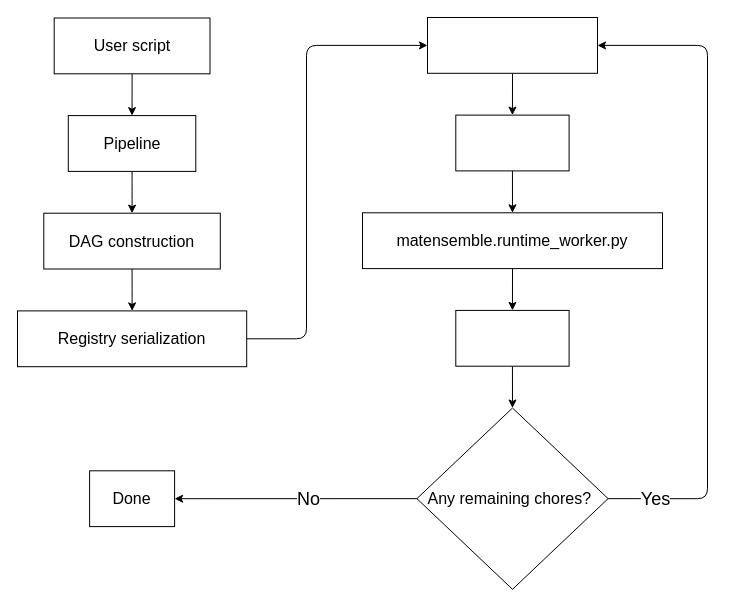
The diagram is 733 pixels wide and 607 high, and some of its shapes have lost their labels. Each missing label, with the centre of its shape:
"Fluxlet" belongs at point (512, 142).
"FluxManager" belongs at point (512, 44).
"Results" belongs at point (512, 337).
